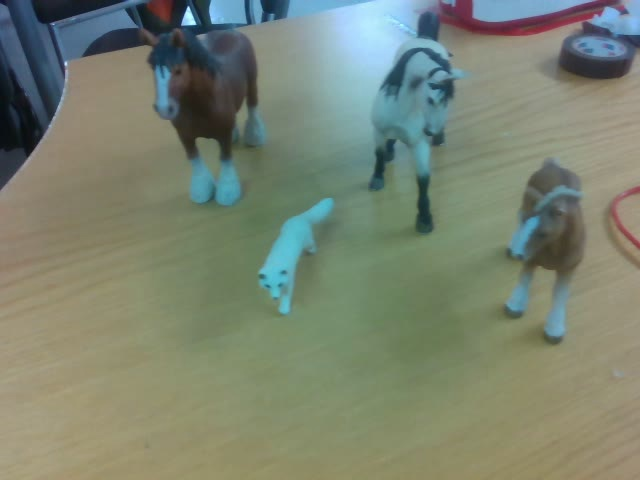toy: (139, 24, 262, 206), (367, 11, 465, 233), (504, 156, 589, 345), (257, 196, 335, 317)
